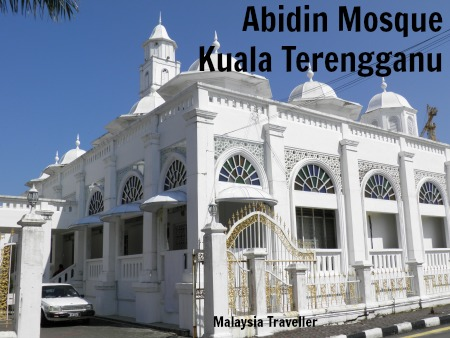Mosque: (31, 14, 447, 313)
